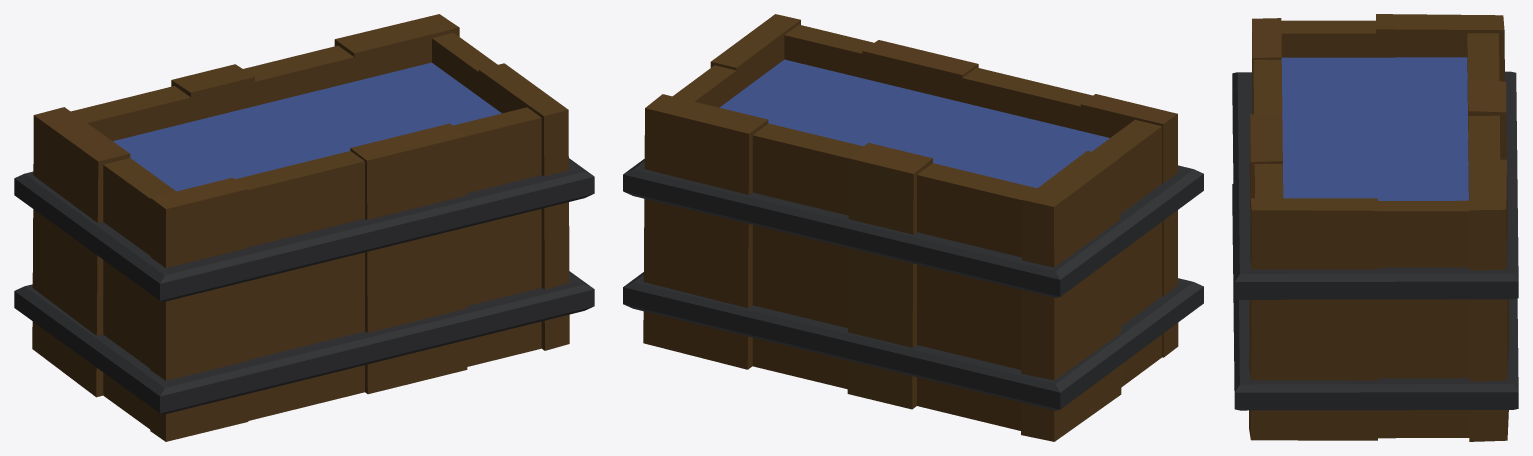
File: quenching_tub.glb
The picture shows the model from 3 angles, left to right: view 1: azimuth 30°, elevation 25°; view 2: azimuth 150°, elevation 25°; view 3: azimuth 270°, elevation 25°; orthographic projection.
Parts seen in each view (by area): view 1: SM_Metalworking_Prop_QuenchingTub_012; view 2: SM_Metalworking_Prop_QuenchingTub_012; view 3: SM_Metalworking_Prop_QuenchingTub_012.
Part boxes in pixels (box(x1,y1,x2,y2)): SM_Metalworking_Prop_QuenchingTub_012: box(14, 14, 594, 441); SM_Metalworking_Prop_QuenchingTub_012: box(623, 14, 1203, 441); SM_Metalworking_Prop_QuenchingTub_012: box(1232, 14, 1518, 441).
Bounding box in the file's own units: 1.04 × 0.5356 × 0.6006.
1 material, 1 textured.
